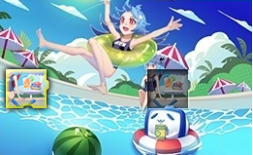gap: (148, 69, 191, 109)
